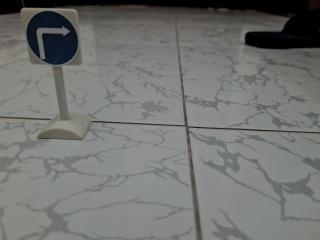right: (16, 3, 86, 75)
